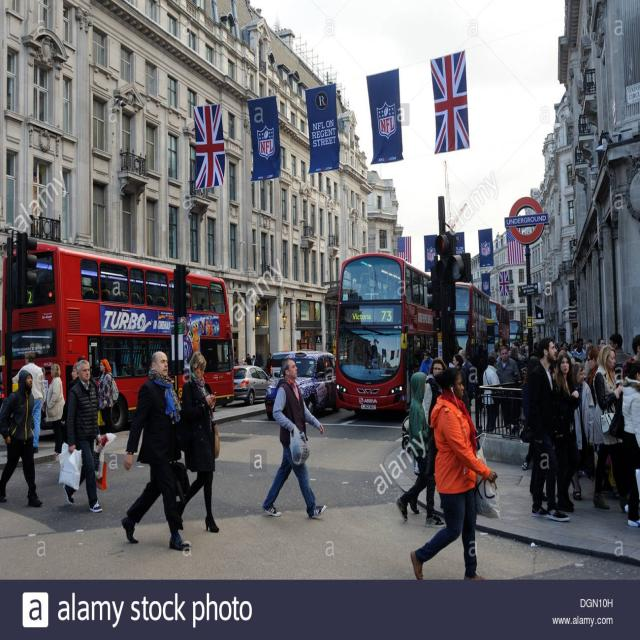body: (409, 366, 498, 590), (70, 260, 239, 371), (120, 350, 191, 553), (401, 331, 639, 384), (259, 356, 328, 519), (168, 350, 220, 533), (525, 336, 571, 520), (394, 371, 446, 529), (63, 359, 104, 512), (588, 343, 624, 510), (0, 368, 43, 507), (549, 351, 582, 502), (571, 361, 596, 502), (11, 350, 44, 453), (71, 355, 99, 474), (405, 458, 454, 524), (621, 359, 640, 528), (494, 346, 522, 438), (520, 355, 541, 471), (44, 362, 67, 456), (95, 356, 119, 441), (422, 357, 448, 430), (483, 354, 503, 433), (60, 362, 81, 428), (458, 349, 476, 420), (356, 276, 399, 304), (607, 333, 632, 367), (622, 334, 640, 377), (452, 353, 468, 394), (418, 348, 434, 377), (569, 337, 587, 362), (521, 443, 532, 468), (244, 353, 252, 377), (266, 352, 273, 378), (596, 338, 607, 353), (250, 354, 259, 367)
